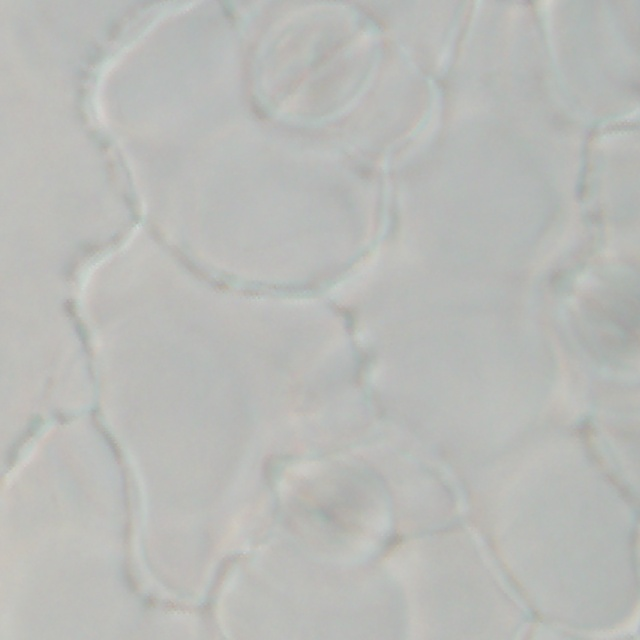center: (289, 39, 347, 92), (309, 495, 361, 533)
stomata-huw1: (250, 2, 382, 127), (272, 454, 394, 566), (549, 251, 639, 384)
